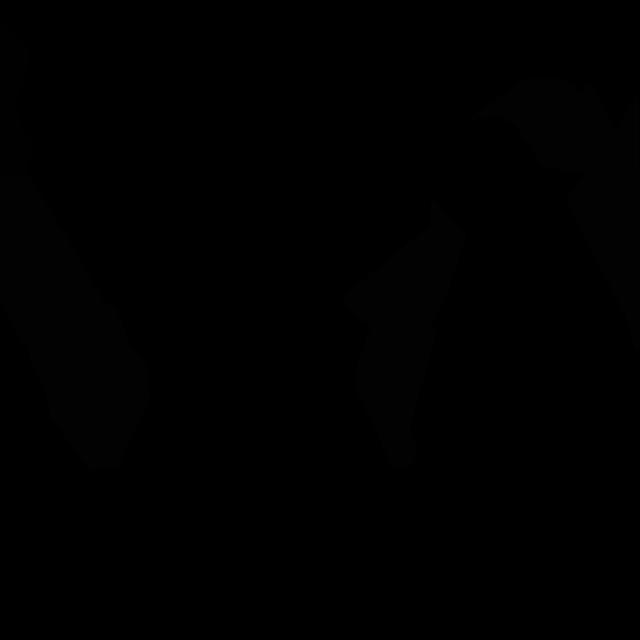cardboard: (0, 176, 149, 471), (343, 196, 467, 470), (565, 92, 640, 352), (470, 78, 616, 173)
rigid_plastic: (0, 20, 34, 177)
